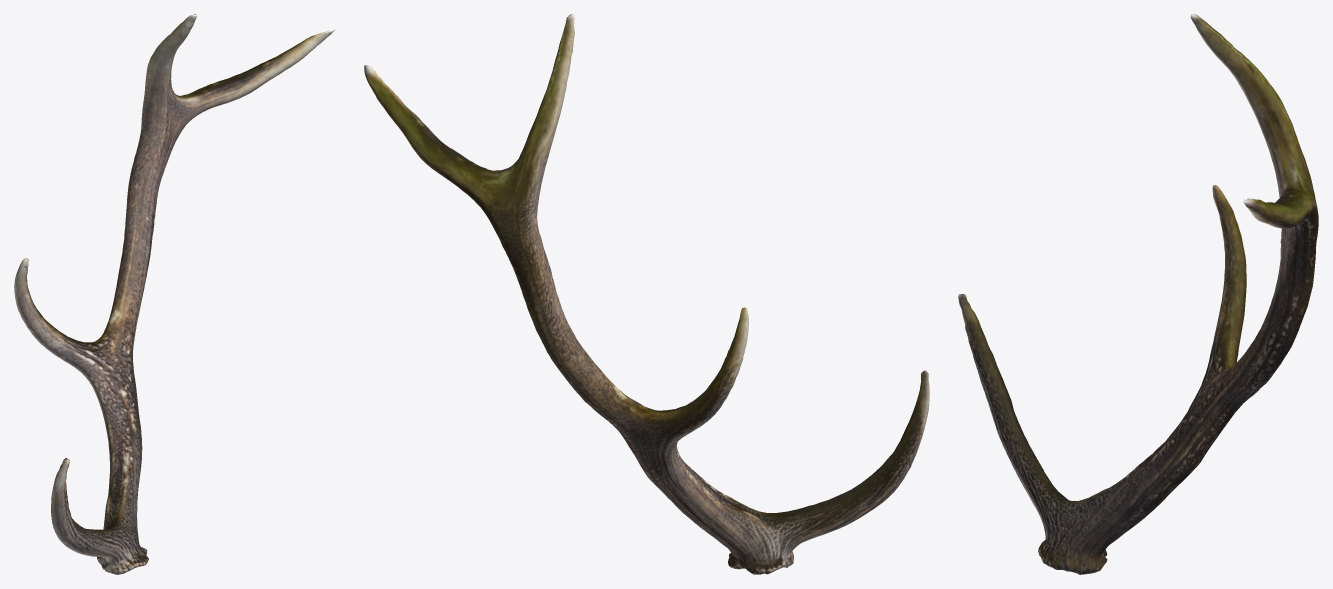
Rendered from Bois_Cerf.FBX.
3 renders of one model, left to right at view 1: azimuth 30°, elevation 25°; view 2: azimuth 150°, elevation 25°; view 3: azimuth 270°, elevation 25°, orthographic. The views are drawn at different scales.
Visible parts, largest first — view 1: Bois_Cerf; view 2: Bois_Cerf; view 3: Bois_Cerf.
Part boxes in pixels (x1,y1,x2,y2): Bois_Cerf: (14, 14, 335, 574); Bois_Cerf: (364, 14, 929, 574); Bois_Cerf: (958, 14, 1318, 574).
Bounding box in the file's own units: 0.3961 × 0.477 × 0.2499.
1 material, 1 textured.
